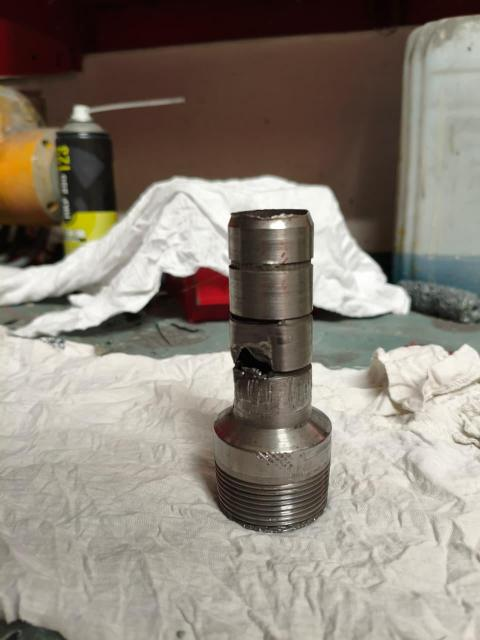Metal: (207, 193, 345, 530)
